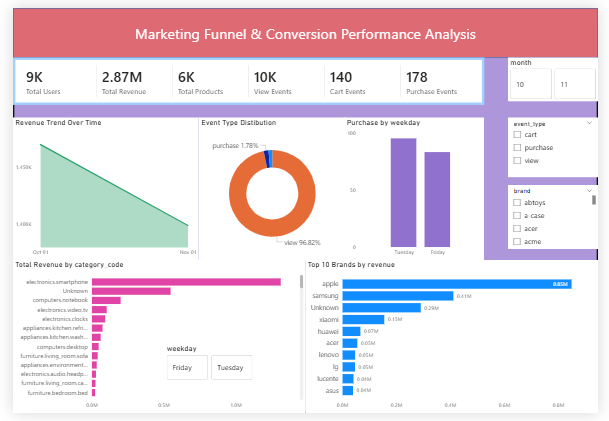

The dashboard page shown, as its layout file describes it:
{"tool":"powerbi","page":{"name":"Page 1","canvas":[1300,900],"ordinal":0},"visuals":[{"type":"donutChart","title":"Event Type Distibution","fields":{"Category":["cleaned_marketing_funnel.event_type"],"Y":["CountNonNull(cleaned_marketing_funnel.event_type)"]},"box":[412.5,242.5,325,317.5],"z":0},{"type":"barChart","title":"Top 10 Brands by revenue","fields":{"Category":["cleaned_marketing_funnel.brand"],"Y":["cleaned_marketing_funnel.Total Revenue"]},"box":[650,560,650,340],"z":1000},{"type":"areaChart","title":"Revenue Trend Over Time","fields":{"Category":["cleaned_marketing_funnel.date.Variation.Date Hierarchy.Year","cleaned_marketing_funnel.date.Variation.Date Hierarchy.Quarter","cleaned_marketing_funnel.date.Variation.Date Hierarchy.Month","cleaned_marketing_funnel.date.Variation.Date Hierarchy.Day"],"Y":["cleaned_marketing_funnel.Total Revenue"]},"box":[0,242.5,412.5,317.5],"z":2000},{"type":"barChart","fields":{"Category":["cleaned_marketing_funnel.category_code"],"Y":["cleaned_marketing_funnel.Total Revenue"]},"box":[0,560,650,340],"z":3000},{"type":"columnChart","title":"Purchase by weekday","fields":{"Y":["cleaned_marketing_funnel.Purchase Events"],"Category":["cleaned_marketing_funnel.weekday"]},"box":[737.5,242.5,310,317.5],"z":4000},{"type":"shape","box":[0,0,1300,110],"z":5000},{"type":"slicer","fields":{"Values":["cleaned_marketing_funnel.brand"]},"box":[1100,392.5,200,140],"z":6000},{"type":"advancedSlicerVisual","fields":{"Values":["cleaned_marketing_funnel.month"]},"box":[1100,110,200,97.5],"z":7000},{"type":"advancedSlicerVisual","fields":{"Values":["cleaned_marketing_funnel.weekday"]},"box":[335,747.5,200,85],"z":8000},{"type":"slicer","fields":{"Values":["cleaned_marketing_funnel.event_type"]},"box":[1100,242.5,200,132.5],"z":9000},{"type":"cardVisual","fields":{"Data":["cleaned_marketing_funnel.Total Users","cleaned_marketing_funnel.Total Revenue","cleaned_marketing_funnel.Total Products","cleaned_marketing_funnel.View Events","cleaned_marketing_funnel.Cart Events","cleaned_marketing_funnel.Purchase Events"]},"box":[0,110,1047.5,105],"z":10000}]}

Visuals, with their boxes in screenshot pixels (x1, y1, x2, y2), scaled from the page's 1300x900 canvas onto the 609x421 screenshot:
"Event Type Distibution" donutChart: rect(193, 113, 345, 262)
"Top 10 Brands by revenue" barChart: rect(304, 262, 608, 420)
"Revenue Trend Over Time" areaChart: rect(0, 113, 193, 262)
barChart - cleaned_marketing_funnel.category_code x cleaned_marketing_funnel.Total Revenue: rect(0, 262, 304, 420)
"Purchase by weekday" columnChart: rect(345, 113, 491, 262)
shape: rect(0, 0, 608, 51)
slicer - cleaned_marketing_funnel.brand: rect(515, 184, 608, 249)
advancedSlicerVisual - cleaned_marketing_funnel.month: rect(515, 51, 608, 97)
advancedSlicerVisual - cleaned_marketing_funnel.weekday: rect(157, 350, 251, 389)
slicer - cleaned_marketing_funnel.event_type: rect(515, 113, 608, 175)
cardVisual - cleaned_marketing_funnel.Total Users x cleaned_marketing_funnel.Total Revenue: rect(0, 51, 491, 101)
